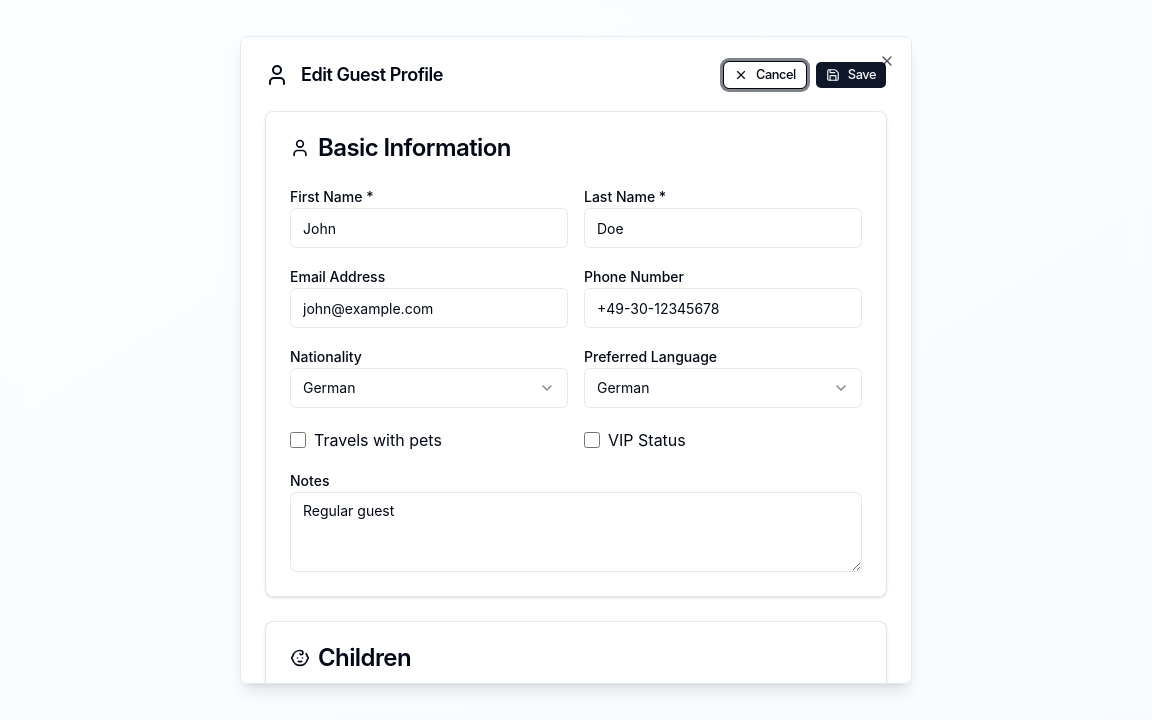
GuestProfileModal › edit mode › allows editing preferred language via dropdown
Click the dropdown named "Preferred Language" at [623, 388], box [584,368,862,408]
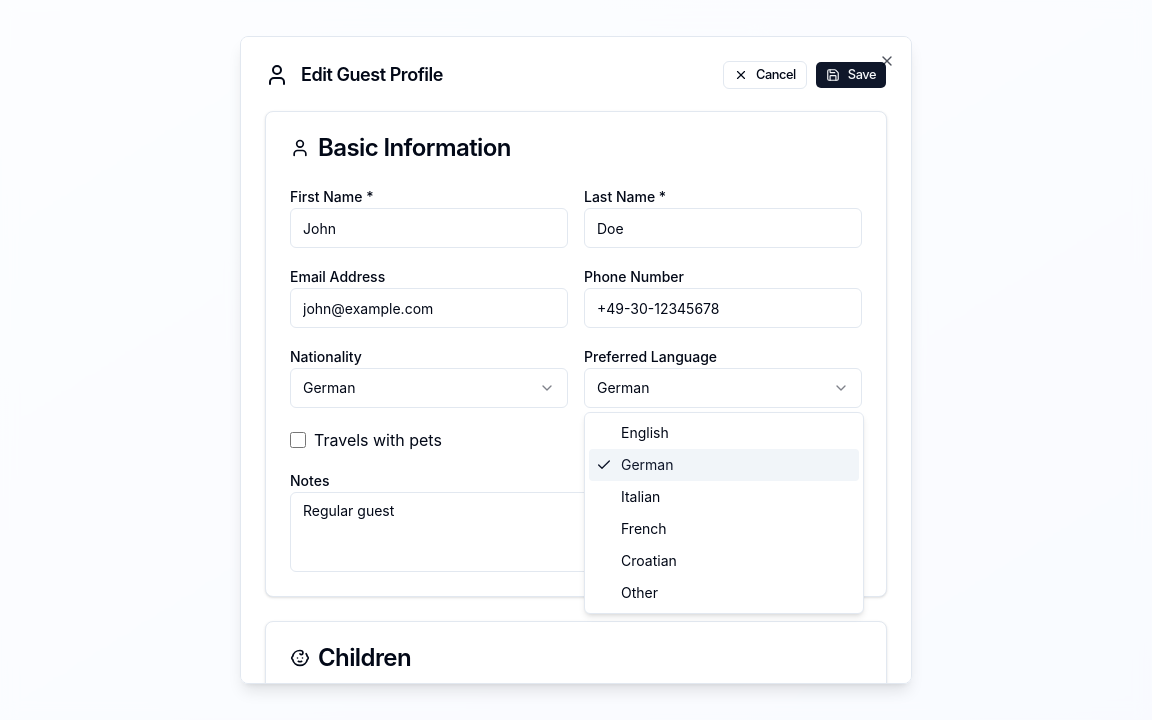
Click the option "English" at [645, 432], box [621,424,669,441]
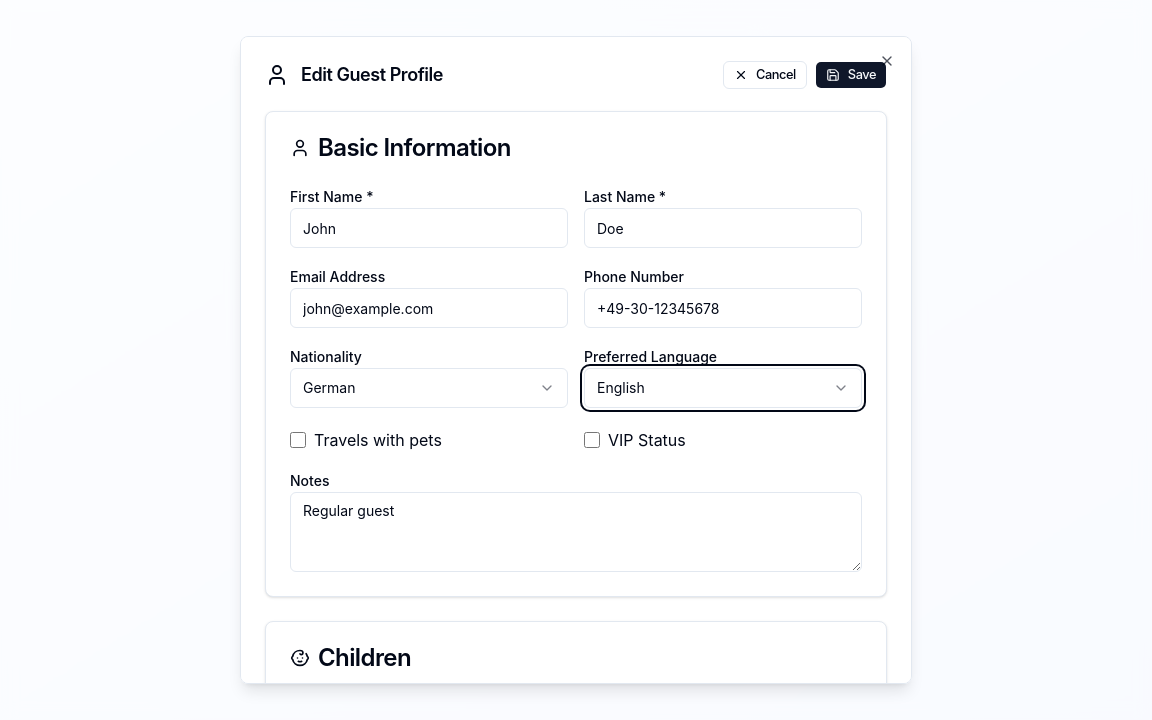
Expected: the dropdown named "Preferred Language" reads "English", [584,368,862,408]
